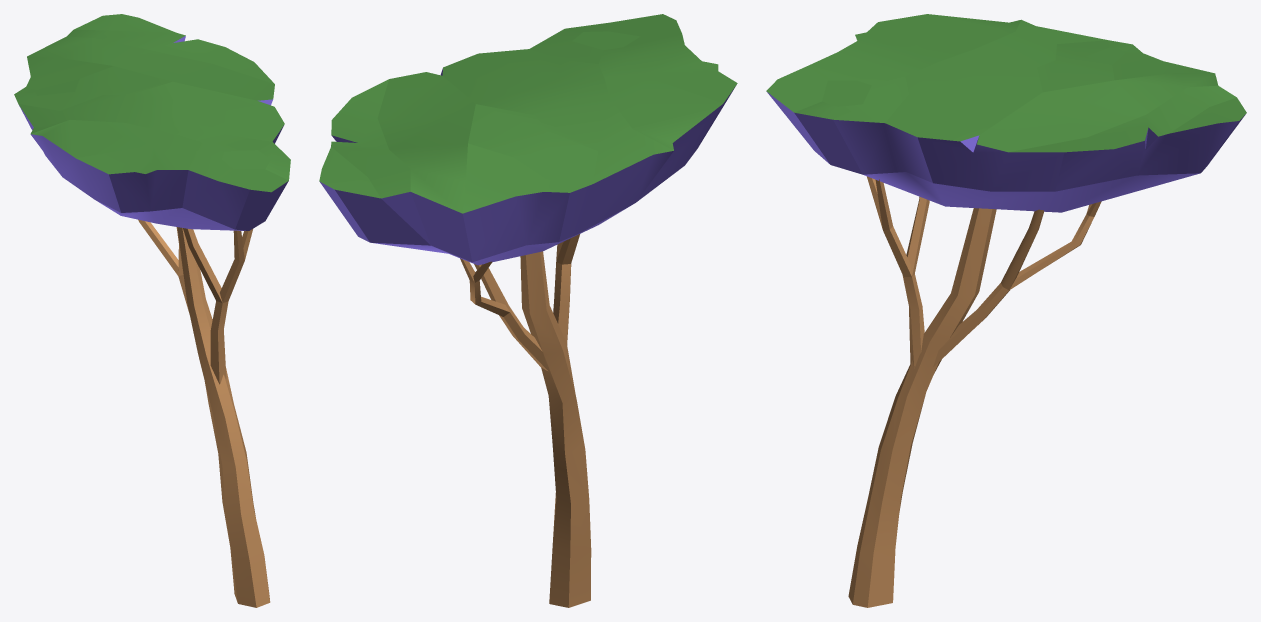
Rendered from tree_B_canopy_B_E_solo_LOD1.fbx.
3 renders of one model, left to right at view 1: azimuth 30°, elevation 25°; view 2: azimuth 150°, elevation 25°; view 3: azimuth 270°, elevation 25°, orthographic. The views are drawn at different scales.
Parts seen in each view (by area): view 1: tree_B_canopy_B_E, tree_B_canopy_B_trunk_A, tree_B_canopy_B_trunk_C, tree_B_canopy_B_trunk_I; view 2: tree_B_canopy_B_E, tree_B_canopy_B_trunk_A, tree_B_canopy_B_trunk_I, tree_B_canopy_B_trunk_C; view 3: tree_B_canopy_B_E, tree_B_canopy_B_trunk_A, tree_B_canopy_B_trunk_C, tree_B_canopy_B_trunk_I.
Part boxes in pixels (x1=…): tree_B_canopy_B_E: x1=14, y1=14, x2=290, y2=230; tree_B_canopy_B_trunk_A: x1=176, y1=227, x2=270, y2=607; tree_B_canopy_B_trunk_C: x1=183, y1=228, x2=252, y2=384; tree_B_canopy_B_trunk_I: x1=138, y1=219, x2=189, y2=312; tree_B_canopy_B_E: x1=319, y1=14, x2=737, y2=265; tree_B_canopy_B_trunk_A: x1=520, y1=251, x2=591, y2=607; tree_B_canopy_B_trunk_I: x1=460, y1=258, x2=548, y2=370; tree_B_canopy_B_trunk_C: x1=553, y1=234, x2=579, y2=344; tree_B_canopy_B_E: x1=766, y1=14, x2=1246, y2=212; tree_B_canopy_B_trunk_A: x1=848, y1=208, x2=996, y2=607; tree_B_canopy_B_trunk_C: x1=867, y1=176, x2=929, y2=368; tree_B_canopy_B_trunk_I: x1=933, y1=201, x2=1101, y2=366.
Bounding box in the file's own units: 214 × 387 × 332.
